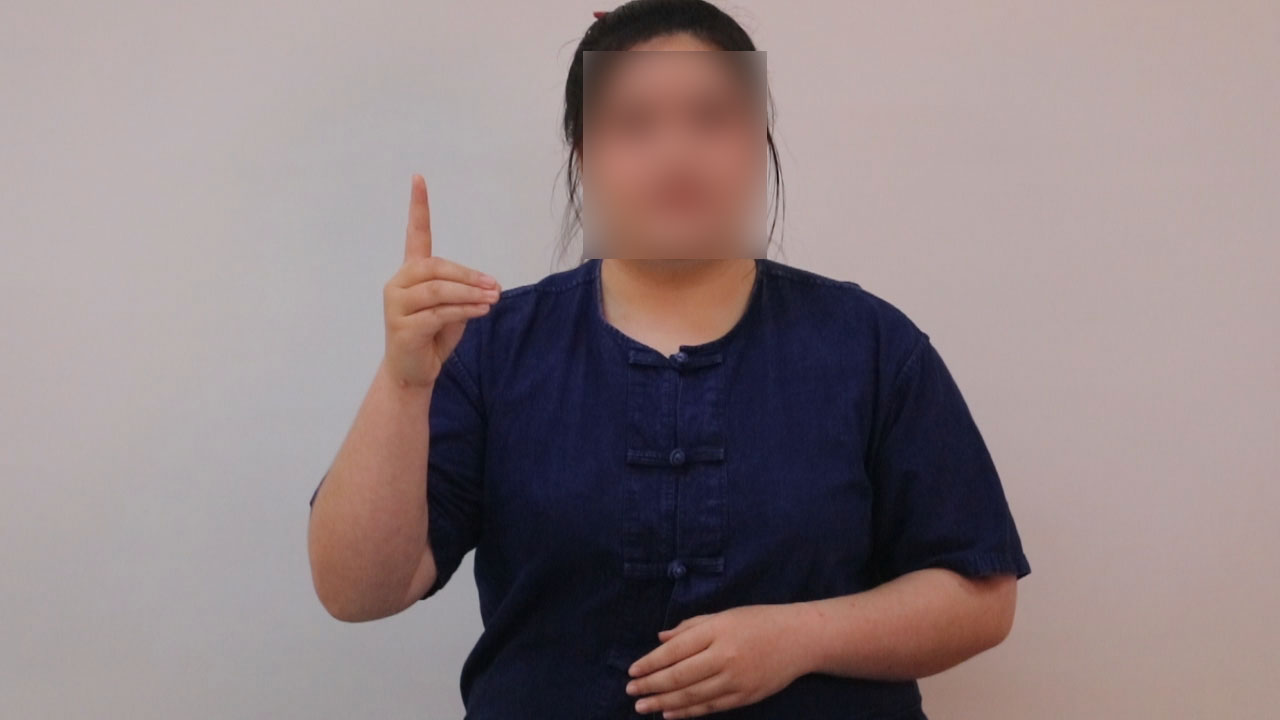dor: (368, 163, 513, 389)
